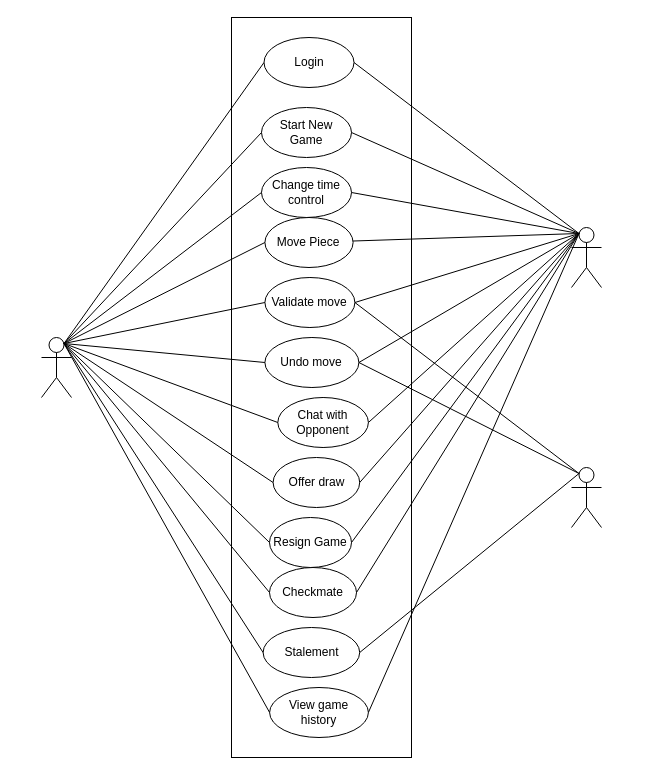
Some shapes in this 646 by 775 pixel diagram are drawn without their labels. The shapes that lost their labels are listed below. From the top down, each one's centre as x and y in pixels, then its label:
At pixel 586 257: "Saipal PLayer 1".
At pixel 56 367: "Nabin Player 2".
At pixel 586 497: "Shishir System".
